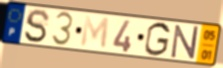3: (50, 10, 75, 48)
4: (111, 18, 133, 54)
G: (143, 21, 172, 58)
M: (79, 14, 111, 51)
N: (170, 24, 200, 61)
S: (22, 8, 52, 45)
